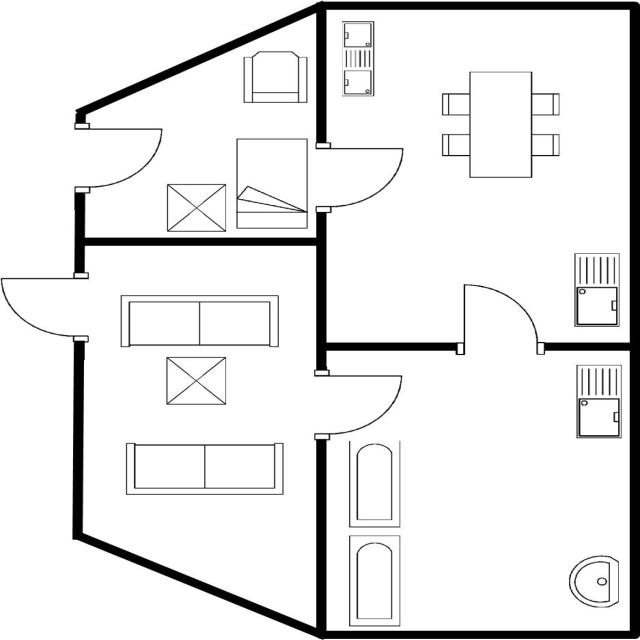armchair: (238, 47, 313, 107)
bed: (231, 132, 311, 234)
coffee_table: (158, 352, 235, 410), (159, 180, 229, 234)
dining_table: (432, 66, 566, 184)
large_sofa: (112, 290, 286, 353), (122, 439, 290, 499)
sink: (568, 250, 625, 332), (572, 361, 624, 441)
small_sink: (562, 552, 623, 612)
tub: (340, 532, 410, 628), (342, 436, 411, 532)
twin_sink: (336, 16, 380, 101)
